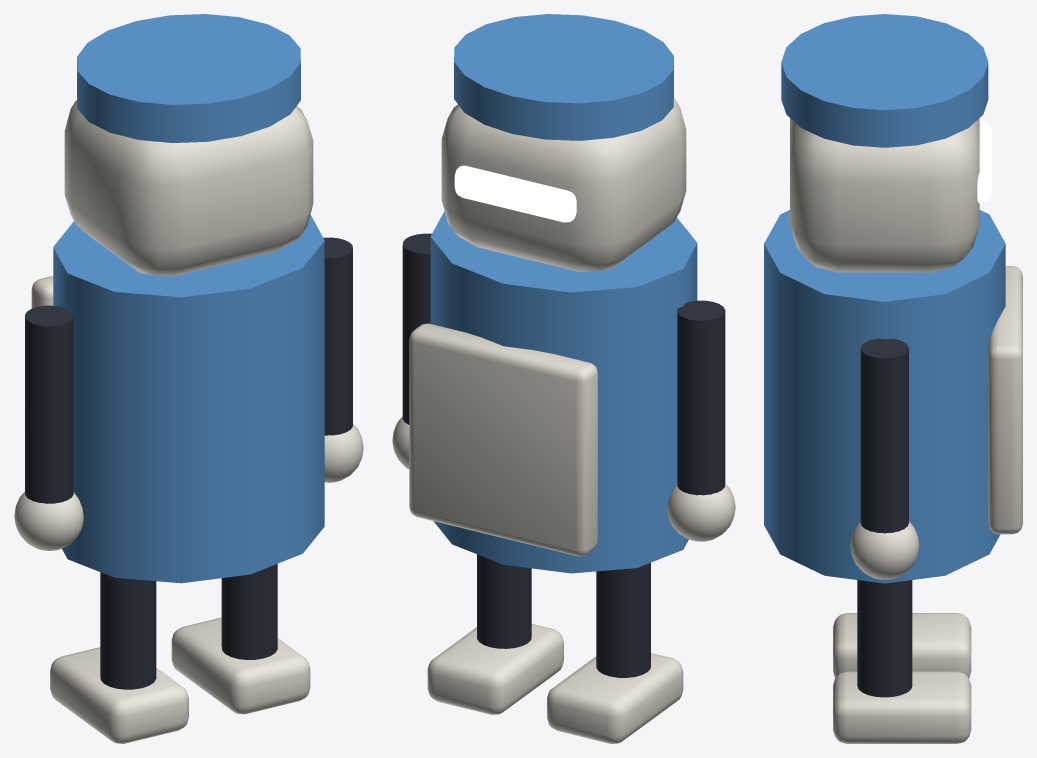
File: npc_townsfolk.glb
The picture shows the model from 3 angles, left to right: view 1: azimuth 30°, elevation 25°; view 2: azimuth 150°, elevation 25°; view 3: azimuth 270°, elevation 25°; orthographic projection.
Parts seen in each view (by area): view 1: Torso, Head, Cap, ArmL, FootR, FootL, LegL, ArmR, LegR, HandL, HandR, Apron; view 2: Torso, Apron, Head, Cap, ArmL, FootR, FootL, LegL, LegR, Eye, ArmR, HandL (+1 smaller); view 3: Torso, Head, Cap, ArmR, FootR, Apron, LegR, FootL, HandR, Eye.
Part boxes in pixels (x1,y1,x2,y2): Torso: (53,214,324,583); Head: (64,100,313,276); Cap: (77,14,300,142); ArmL: (25,305,73,503); FootR: (171,617,310,714); FootL: (50,647,188,743); LegL: (100,572,156,689); ArmR: (323,237,352,435); LegR: (221,564,277,659); HandL: (14,492,83,550); HandR: (324,423,363,482); Apron: (31,276,53,308); Torso: (430,211,697,573); Apron: (409,323,597,556); Head: (441,98,686,271); Cap: (454,14,673,140); ArmL: (677,300,725,495); FootR: (427,624,563,714); FootL: (547,653,683,743); LegL: (596,562,650,677); LegR: (477,554,531,648); Eye: (454,165,576,222); ArmR: (402,233,431,424); HandL: (667,483,735,541); Torso: (764,210,1005,583); Head: (790,118,979,272); Cap: (781,14,988,147); ArmR: (860,338,908,533); FootR: (833,671,971,743); Apron: (988,266,1022,534); LegR: (857,580,912,697); FootL: (833,613,971,677); HandR: (850,521,919,579); Eye: (977,121,991,203).
Size of the model in its own units: 1.12 by 2.04 by 0.75.
